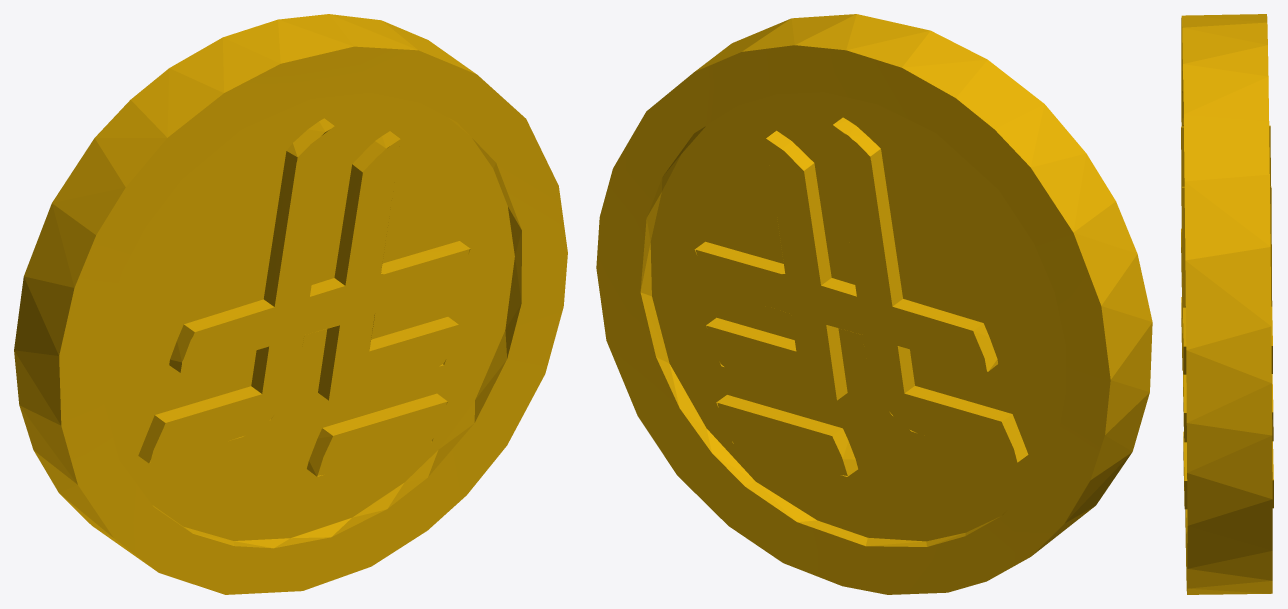
Rendered from Riyal Coint.fbx.
The picture shows the model from 3 angles, left to right: view 1: azimuth 30°, elevation 25°; view 2: azimuth 150°, elevation 25°; view 3: azimuth 270°, elevation 25°; orthographic projection.
Parts seen in each view (by area): view 1: Cylinder.171; view 2: Cylinder.171; view 3: Cylinder.171.
Part boxes in pixels (x1,y1,x2,y2): Cylinder.171: (14, 14, 567, 594); Cylinder.171: (596, 14, 1152, 594); Cylinder.171: (1181, 14, 1273, 594).
Size of the model in its own units: 111 by 111 by 17.71.
